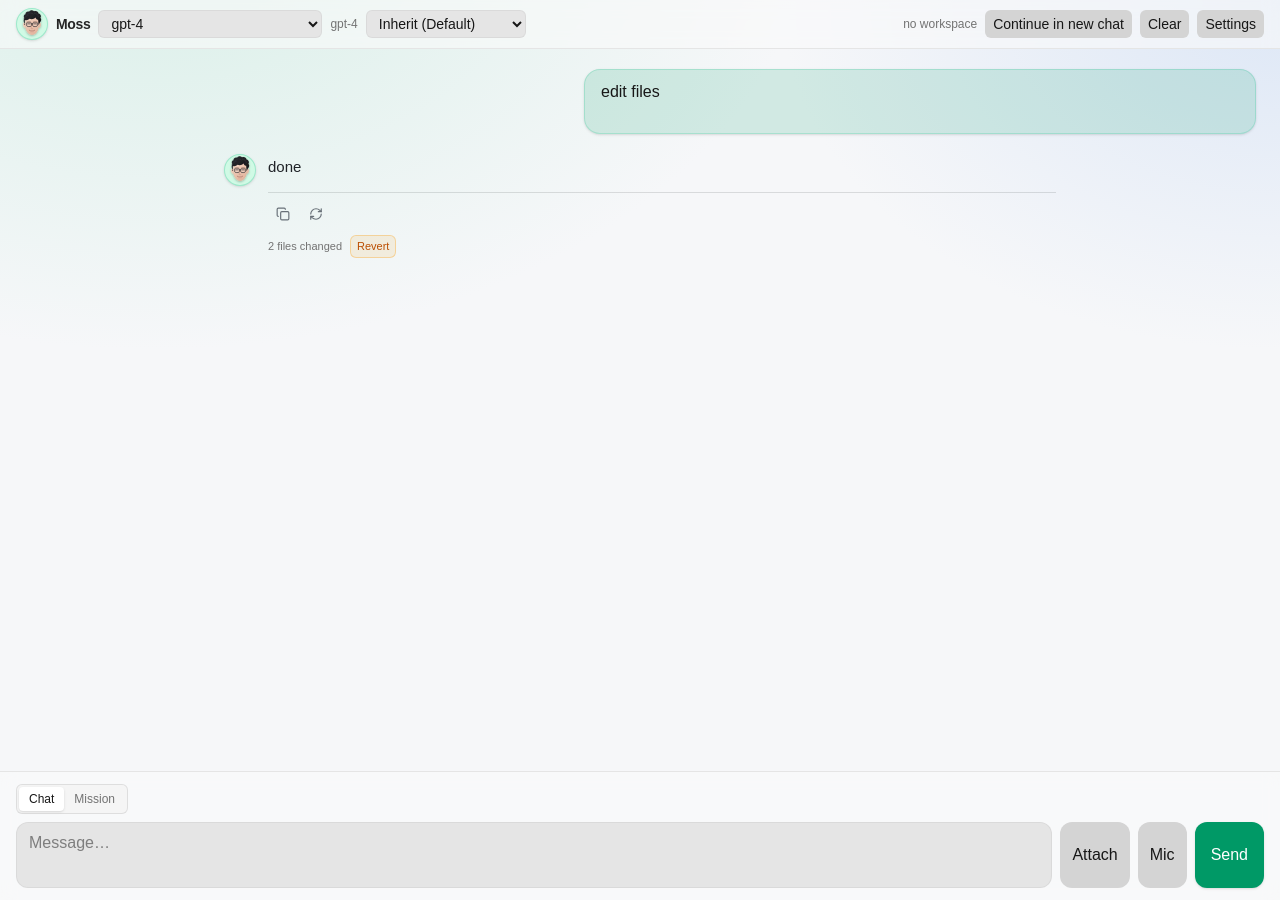
Scenario: ChatPanel › shows a revert affordance on a turn that changed files and undoes them on click
This screenshot has width=1280, height=900.
Expected: the text "2 files changed" is shown, [268,238,342,255]
Click the button "Revert" at (373, 247), box [350,235,396,258]
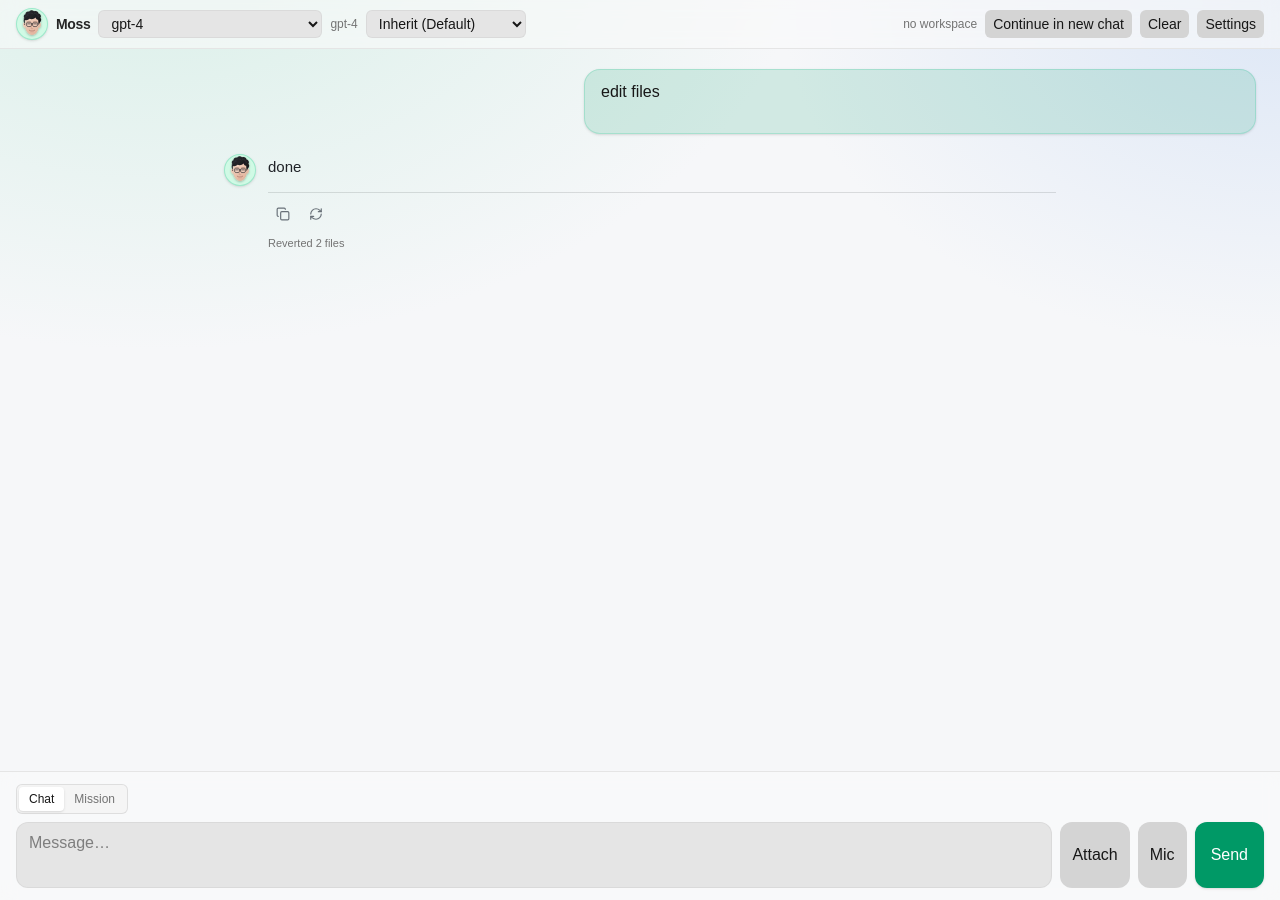
Expected: the text "Reverted 2 files" is shown, [268,237,344,249]
